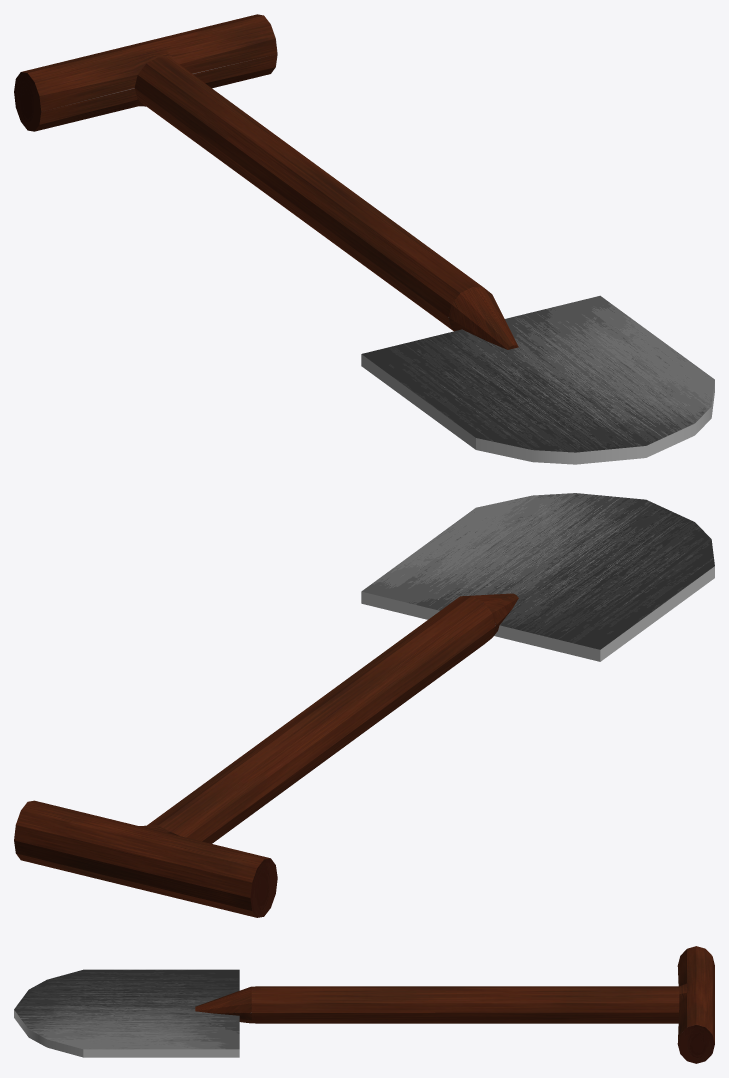
The picture shows the model from 3 angles, top to bottom: view 1: azimuth 30°, elevation 25°; view 2: azimuth 150°, elevation 25°; view 3: azimuth 270°, elevation 25°; orthographic projection. The views are drawn at different scales.
Visible parts, largest first — view 1: Pa; view 2: Pa; view 3: Pa.
Boxes of the visible parts, <box> form: Pa: <box>14,14,714,464</box>; Pa: <box>14,493,714,917</box>; Pa: <box>14,946,714,1063</box>.
Bounding box in the file's own units: 24.8 × 5.69 × 92.35.
